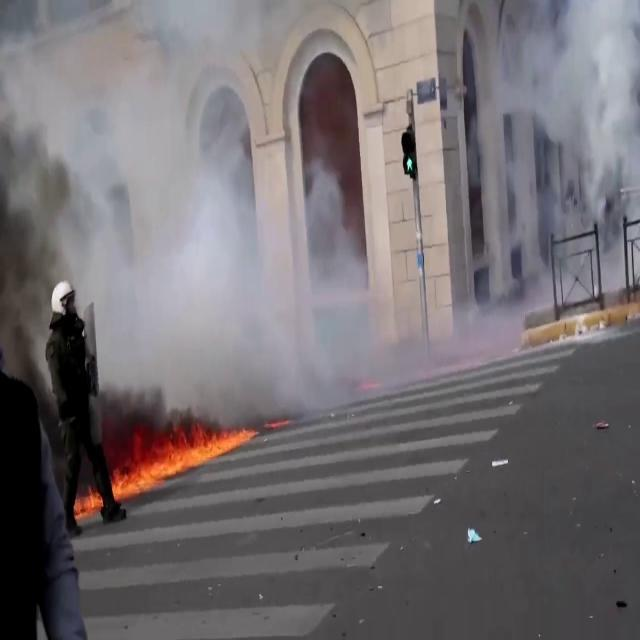Fire: (109, 418, 257, 497), (72, 482, 106, 528)
Smoke: (74, 132, 513, 424), (0, 13, 100, 387), (475, 0, 640, 215)
